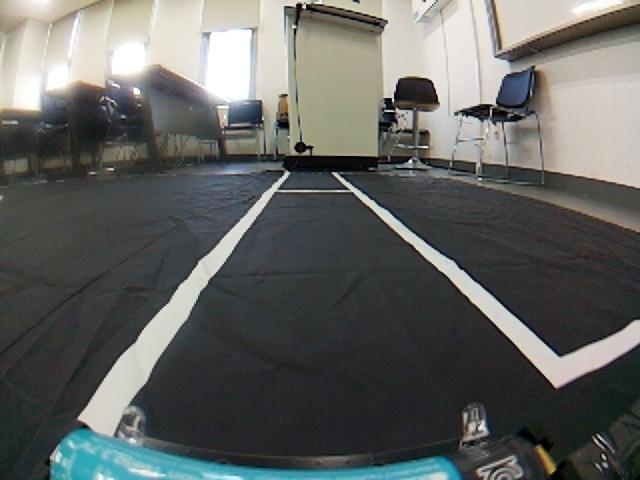straight: (1, 183, 640, 480)
